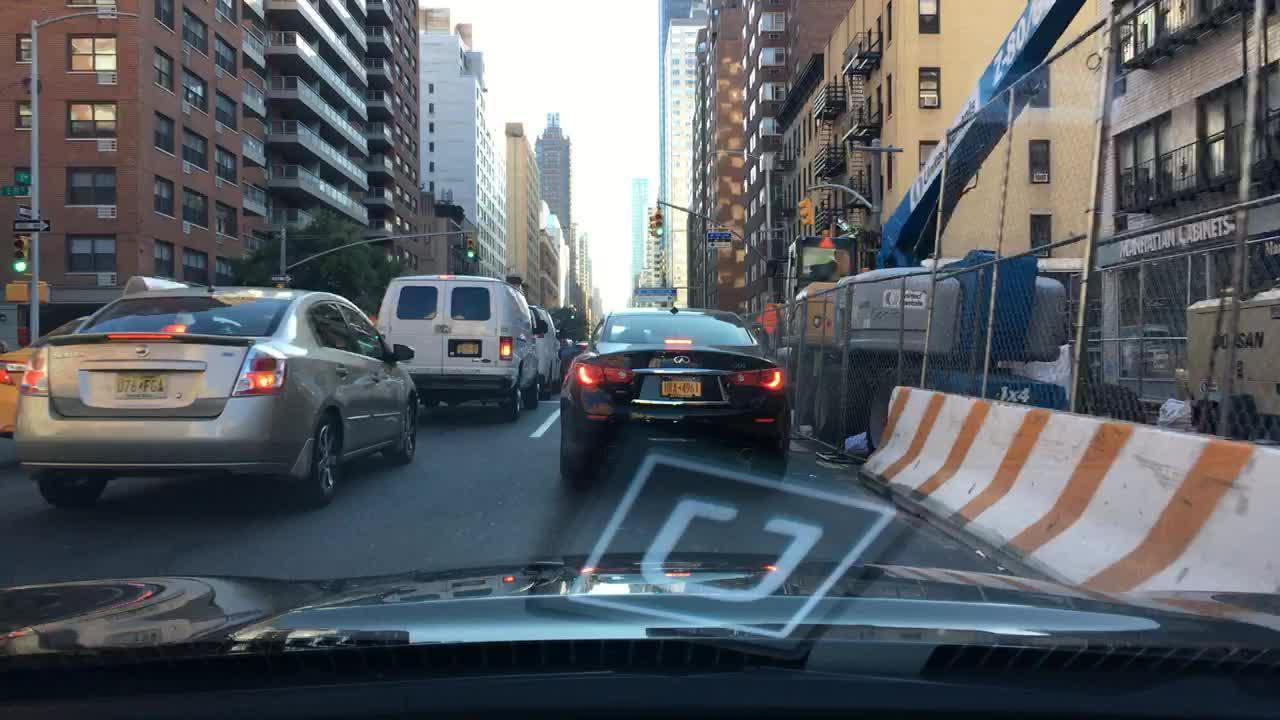Infiniti: (667, 350, 700, 370)
